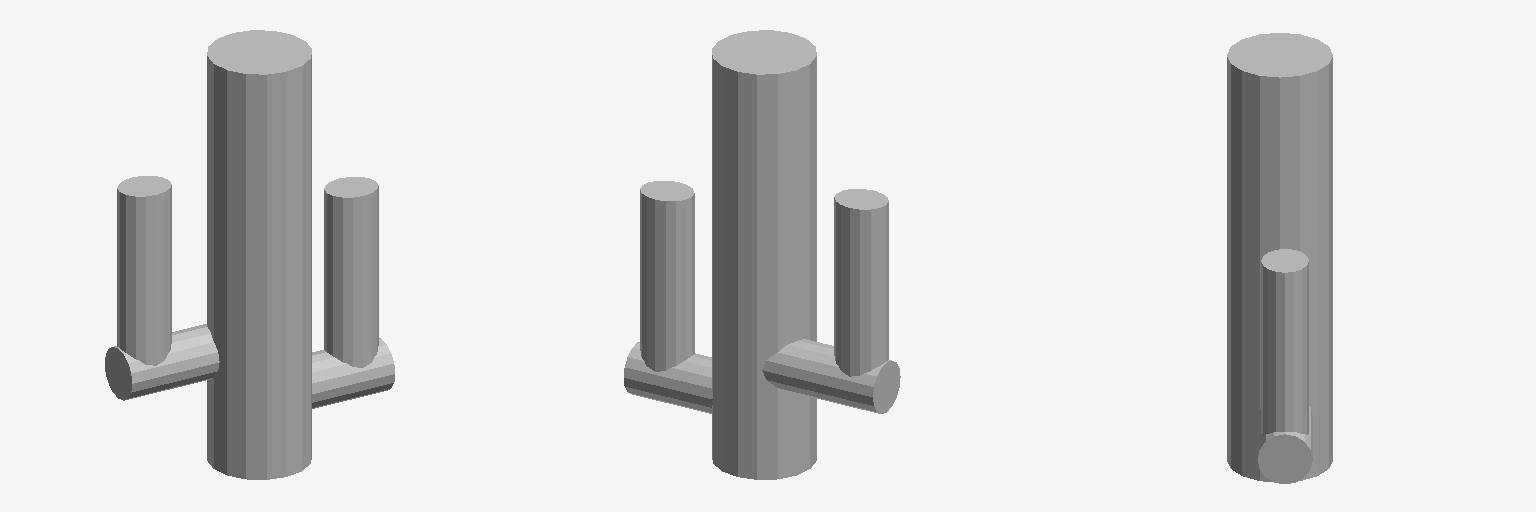
File: cactus.obj
3 renders of one model, left to right at view 1: azimuth 30°, elevation 25°; view 2: azimuth 150°, elevation 25°; view 3: azimuth 270°, elevation 25°, orthographic.
Parts seen in each view (by area): view 1: cactus; view 2: cactus; view 3: cactus.
Part boxes in pixels (x1,y1,x2,y2): cactus: (105, 30, 394, 479); cactus: (624, 30, 900, 479); cactus: (1227, 33, 1332, 483).
Size of the model in its own units: 0.6653 by 1.01 by 0.239.